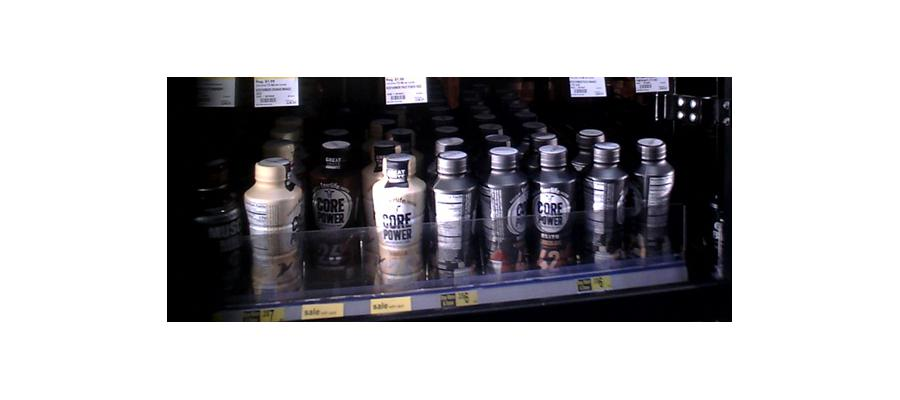bottle: (249, 154, 304, 301), (370, 151, 428, 286), (305, 159, 356, 291), (530, 142, 577, 274), (431, 144, 477, 278), (585, 139, 631, 267), (483, 145, 525, 275), (633, 132, 675, 261)
